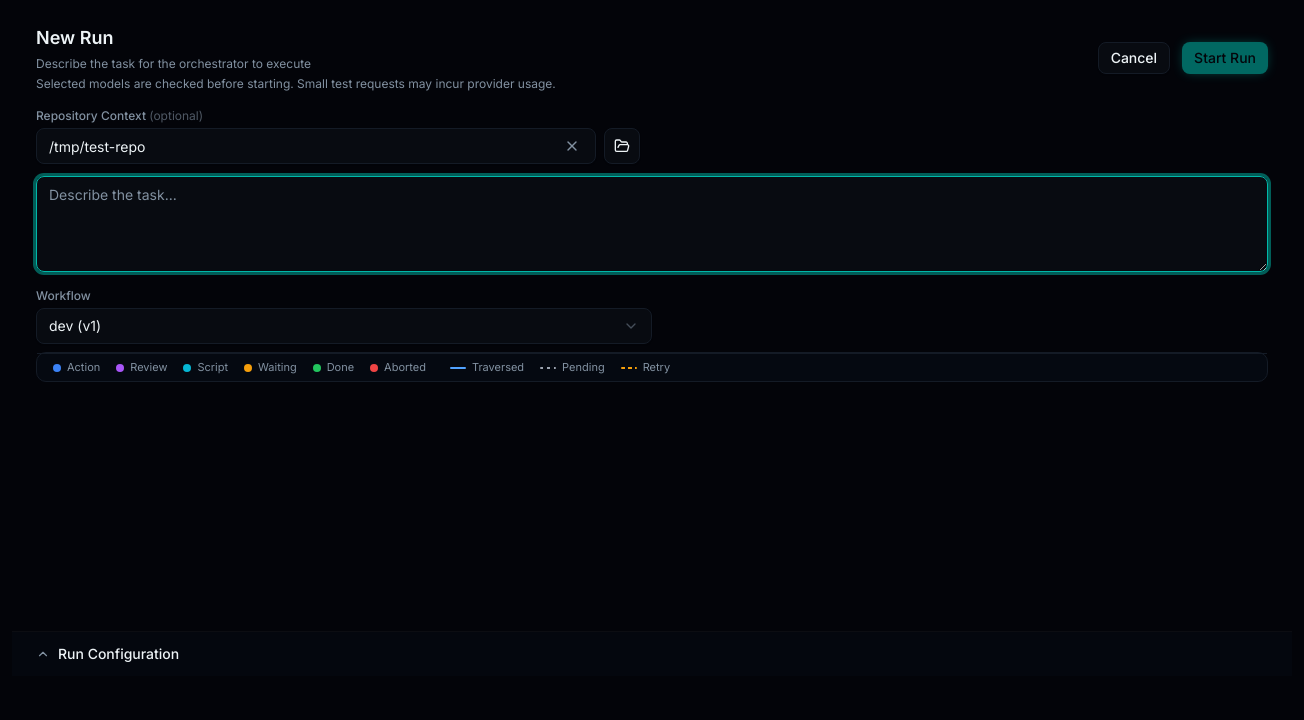
Scenario: NewRunPage › browse directory success sets repoRoot
Expected: the field with placeholder "Defaults to system temp directory" holds "/tmp/test-repo", x1=36 y1=128 x2=596 y2=164
Click the button titled "Browse for folder" at (622, 146), box x1=604 y1=128 x2=640 y2=164
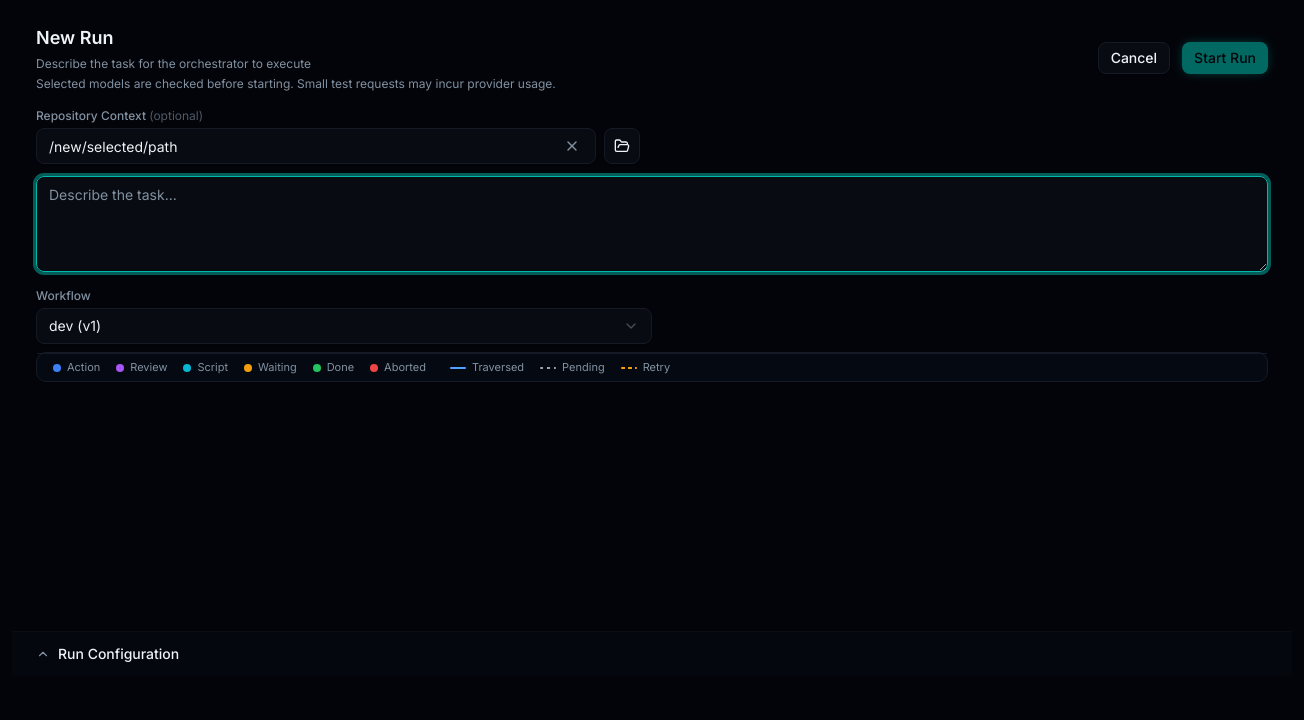
Expected: the field with placeholder "Defaults to system temp directory" holds "/new/selected/path", x1=36 y1=128 x2=596 y2=164
